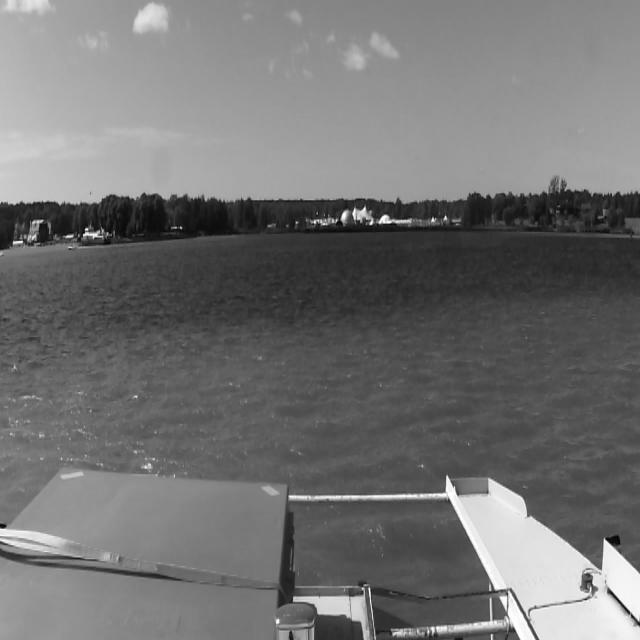ship: (65, 242, 73, 250)
